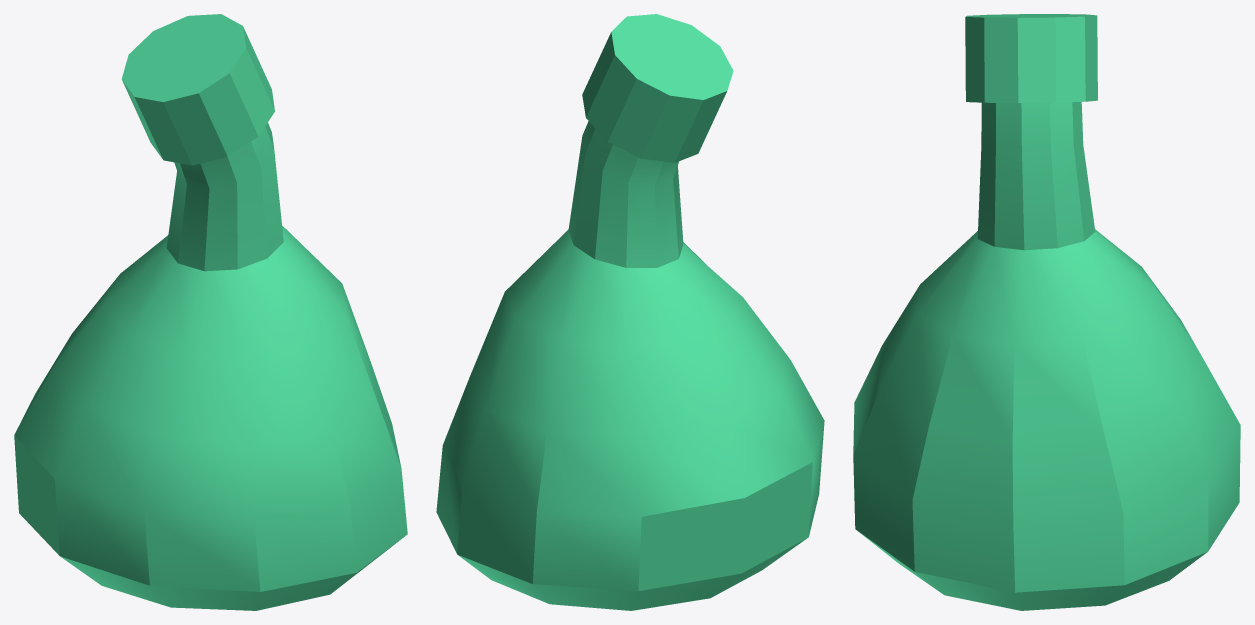
File: 18_Potion_1.fbx
The picture shows the model from 3 angles, left to right: view 1: azimuth 30°, elevation 25°; view 2: azimuth 150°, elevation 25°; view 3: azimuth 270°, elevation 25°; orthographic projection.
Parts seen in each view (by area): view 1: Sphere.036; view 2: Sphere.036; view 3: Sphere.036.
Part boxes in pixels (x1,y1,x2,y2): Sphere.036: [14, 14, 407, 610]; Sphere.036: [436, 14, 824, 610]; Sphere.036: [853, 14, 1240, 610].
Size of the model in its own units: 37.44 by 55.8 by 36.69.
